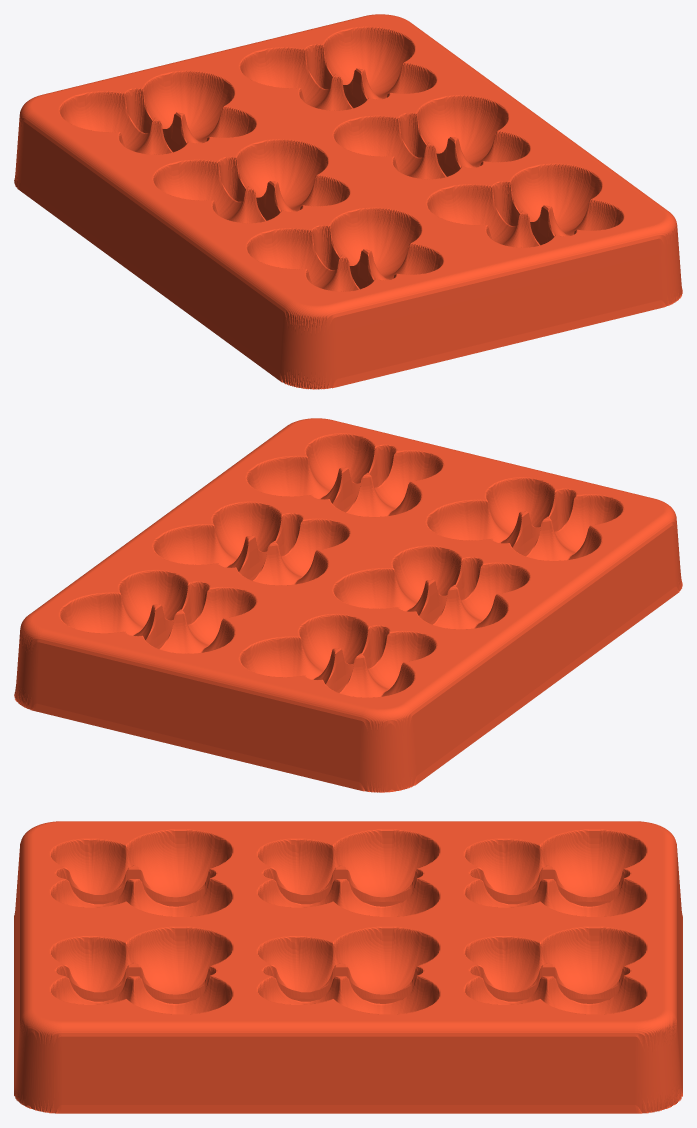
The model's file is mold.glb.
The picture shows the model from 3 angles, top to bottom: view 1: azimuth 30°, elevation 25°; view 2: azimuth 150°, elevation 25°; view 3: azimuth 270°, elevation 25°; orthographic projection. The views are drawn at different scales.
Visible parts, largest first — view 1: geometry_0; view 2: geometry_0; view 3: geometry_0.
Part boxes in pixels (x1,y1,x2,y2): geometry_0: (14, 14, 682, 389); geometry_0: (14, 418, 682, 792); geometry_0: (14, 821, 682, 1113).
Size of the model in its own units: 0.0955 by 0.0175 by 0.1255.
